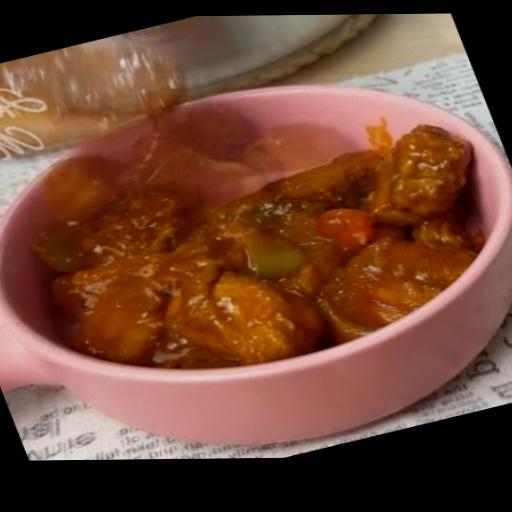pork caldereta: (68, 127, 476, 373)
